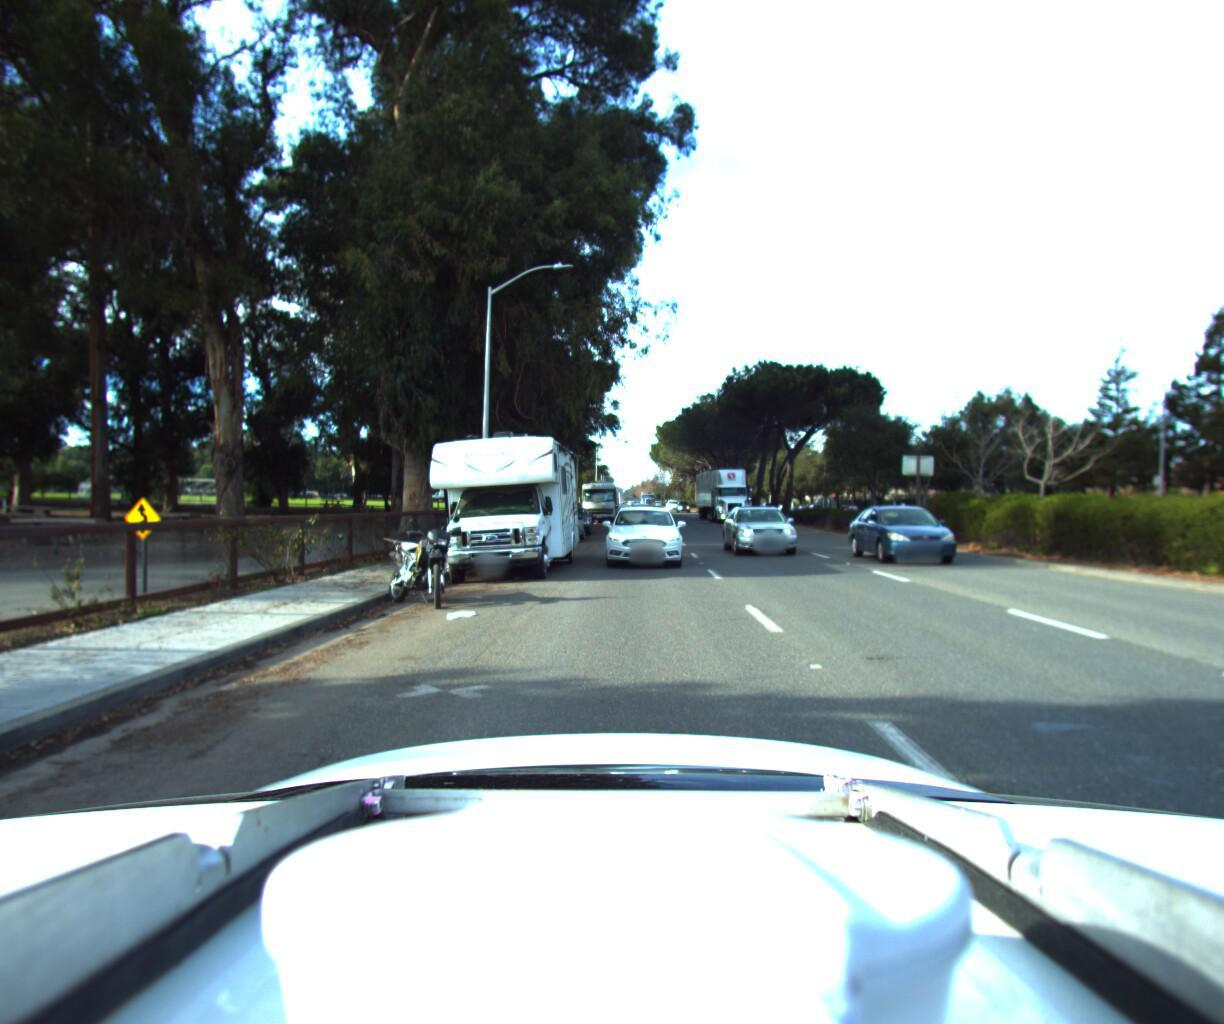car: (854, 495, 992, 569), (598, 497, 680, 566), (723, 499, 807, 557), (531, 501, 588, 542), (553, 500, 592, 534)
motorcycle: (336, 506, 477, 616)
other_vehicle: (406, 418, 583, 589), (578, 473, 619, 518)
truck: (693, 458, 758, 519)
